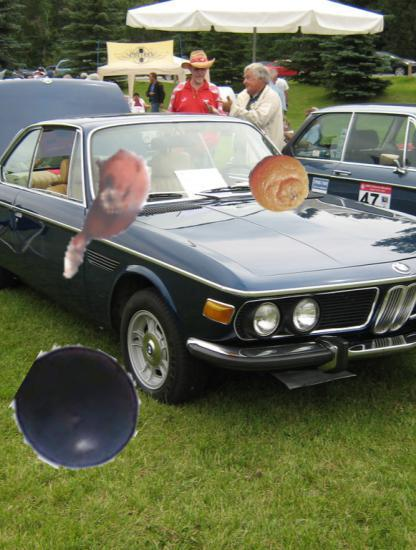Banana: (25, 138, 169, 282)
Grape: (16, 347, 142, 473)
Mandarine: (248, 152, 311, 215)
